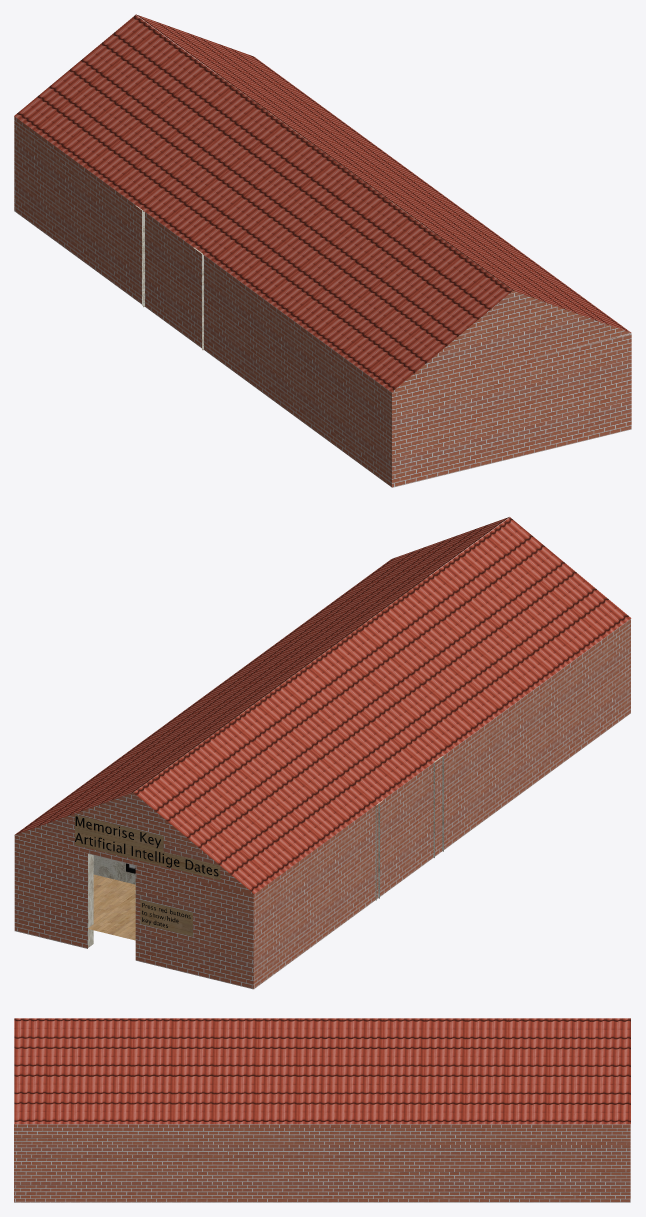
Rendered from walls_127.gltf.
3 views of the same model, one above another, from view 1: azimuth 30°, elevation 25°; view 2: azimuth 150°, elevation 25°; view 3: azimuth 270°, elevation 25° (orthographic). The views are drawn at different scales.
Parts seen in each view (by area): view 1: polySurface4270, walls_121; view 2: polySurface4270, pCube268, polySurface4232, walls_121, pCube269, typeMesh46; view 3: polySurface4270.
Part boxes in pixels (bbox=[...]): polySurface4270: bbox=[14, 14, 631, 487]; walls_121: bbox=[135, 73, 616, 350]; polySurface4270: bbox=[14, 517, 631, 989]; pCube268: bbox=[75, 815, 220, 880]; polySurface4232: bbox=[88, 874, 135, 940]; walls_121: bbox=[88, 576, 443, 947]; pCube269: bbox=[140, 900, 192, 936]; typeMesh46: bbox=[75, 816, 218, 876]; polySurface4270: bbox=[14, 1018, 630, 1202].
Size of what is drawn, in the model's own units: 16.02 by 10.69 by 43.48.
Materials: 16 (11 with a texture image).
